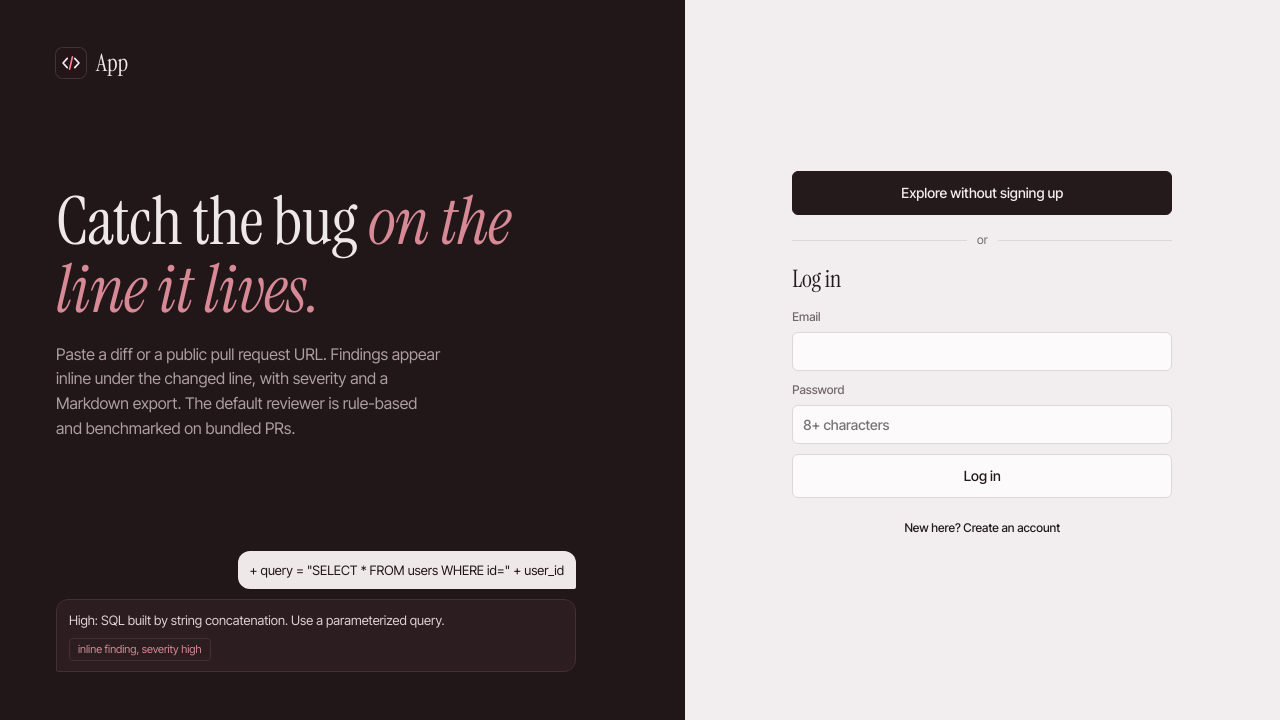
shows login, registers, then shows the app with a log out button
The width and height of the screenshot is (1280, 720).
Expected: the text "secret area" is not shown
Click the button "New here? Create an account" at [982, 528], box [792, 508, 1172, 549]
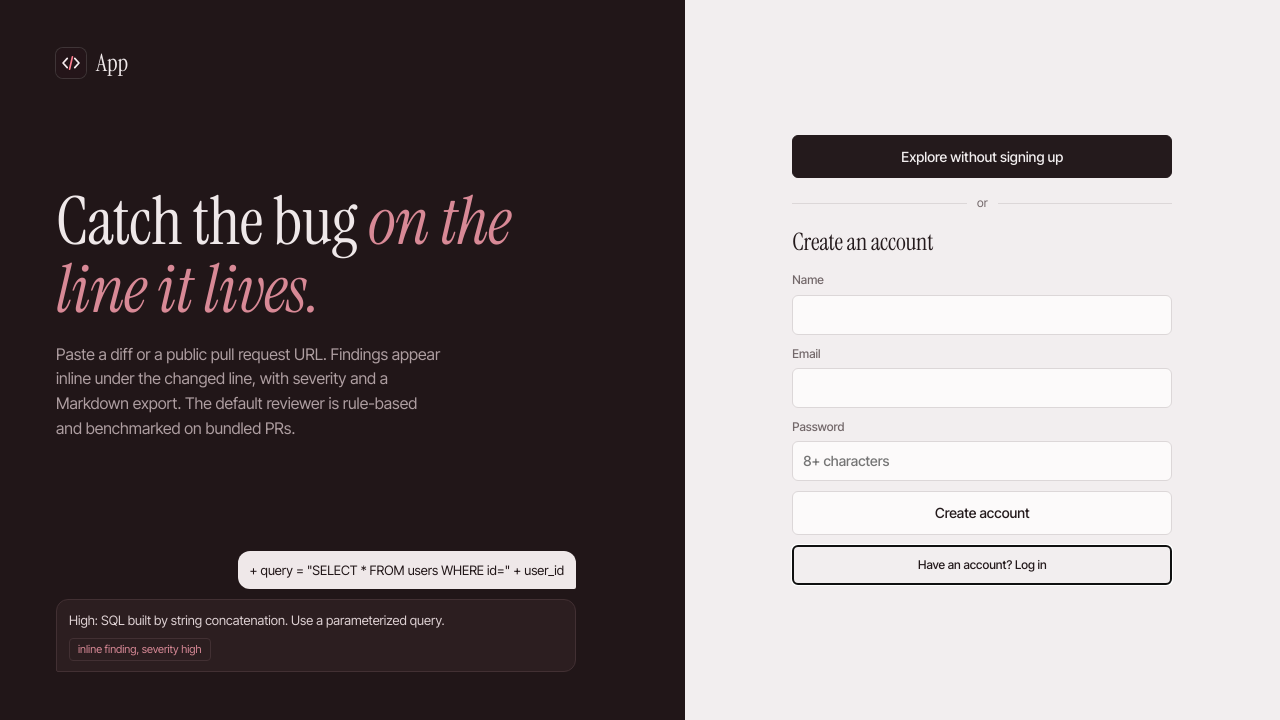
Type "Ann" into the field labelled "Name" at [982, 315], box [792, 295, 1172, 335]
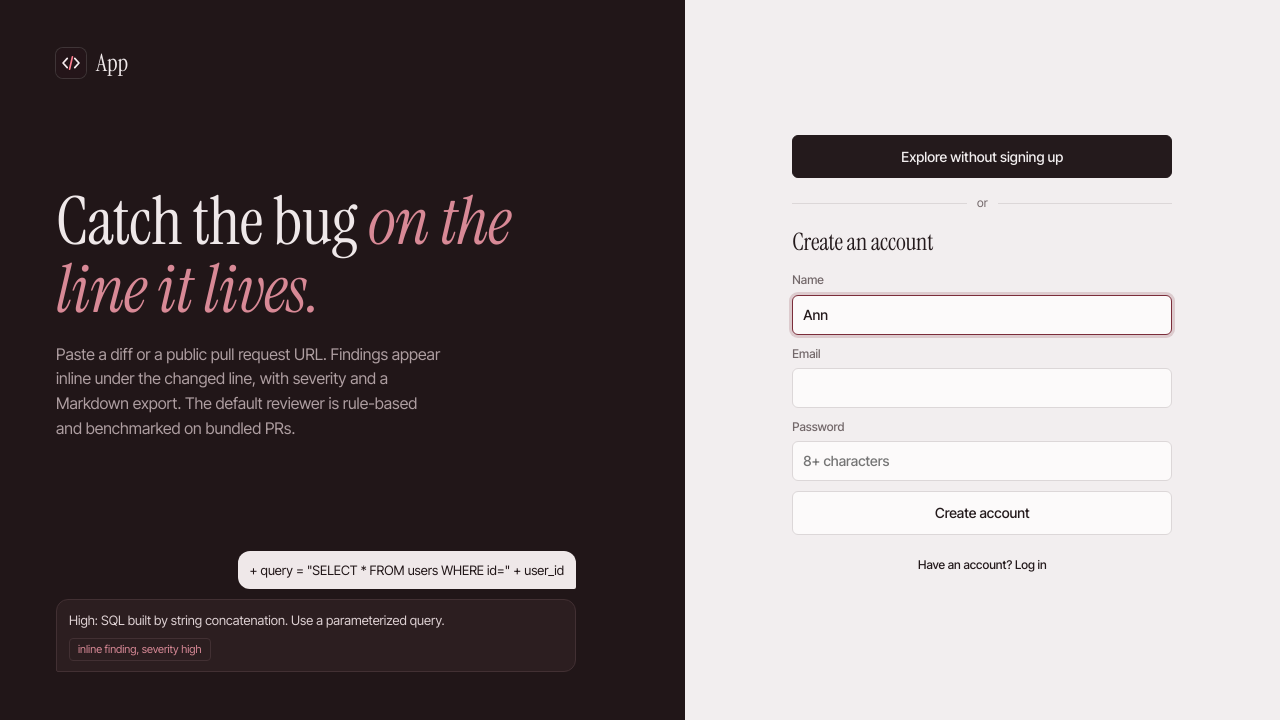
Type "a@b.co" into the field labelled "Email" at [982, 388], box [792, 368, 1172, 408]
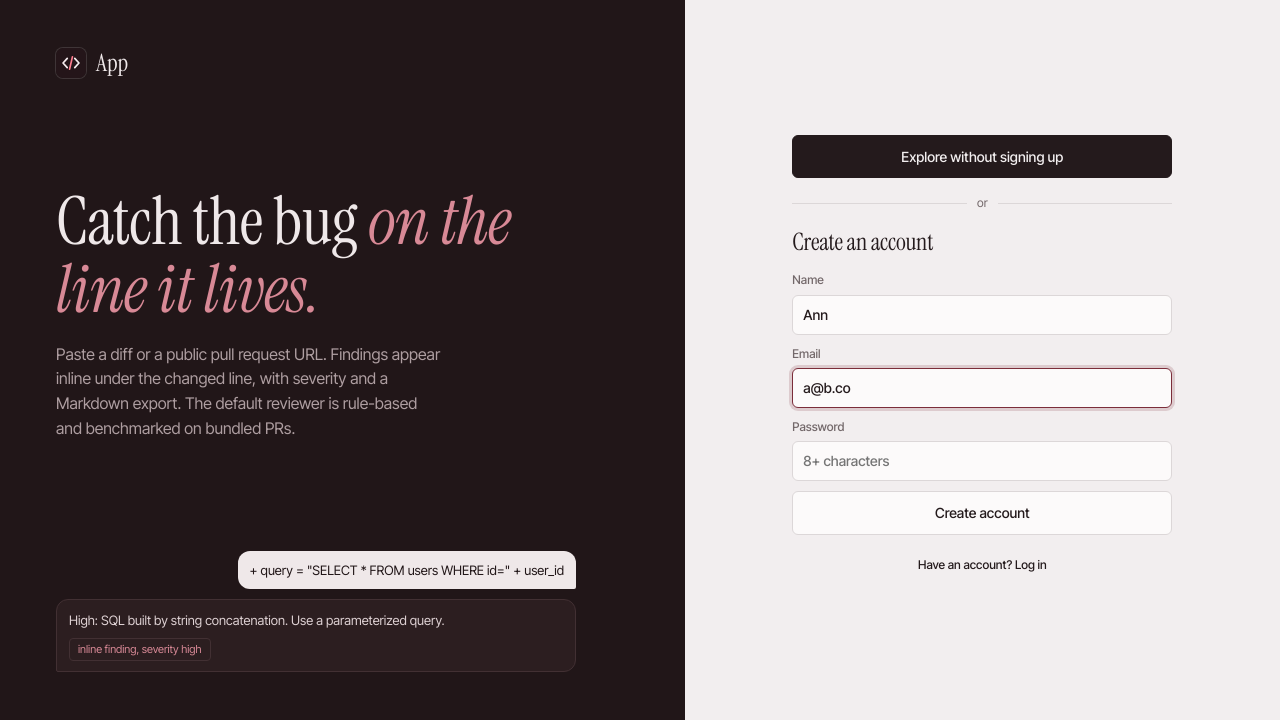
Type "correct-horse-1" into the password field labelled "Password" at [982, 461], box [792, 441, 1172, 481]
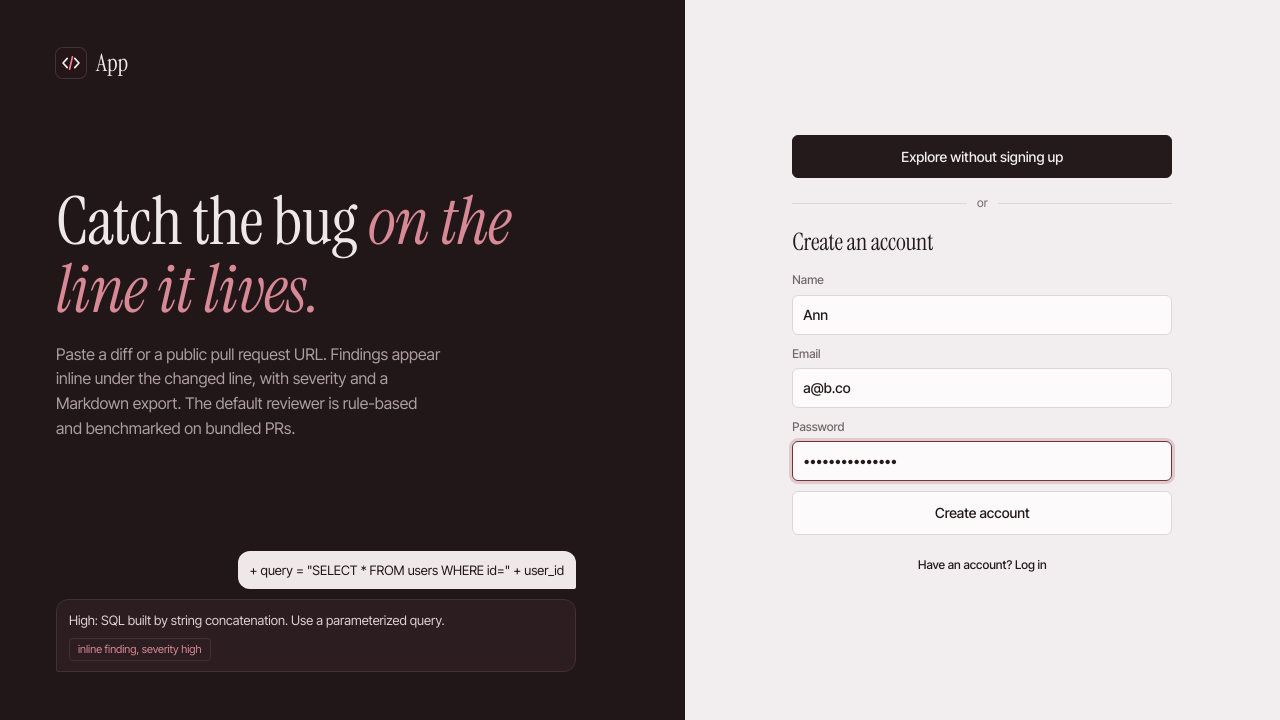
Click the button "Create account" at [982, 513], box [792, 491, 1172, 535]
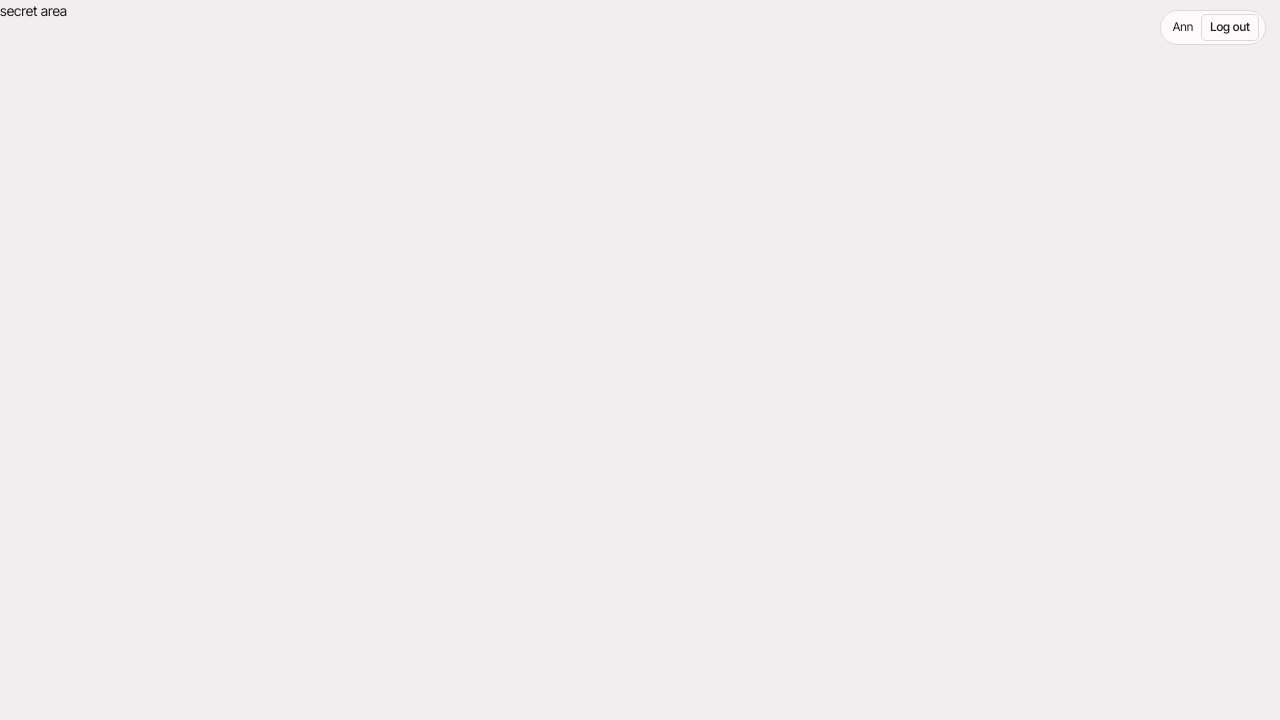
Expected: the text "secret area" is shown, [0, 2, 67, 19]
Expected: the button "Log out" is shown, [1201, 14, 1259, 41]
